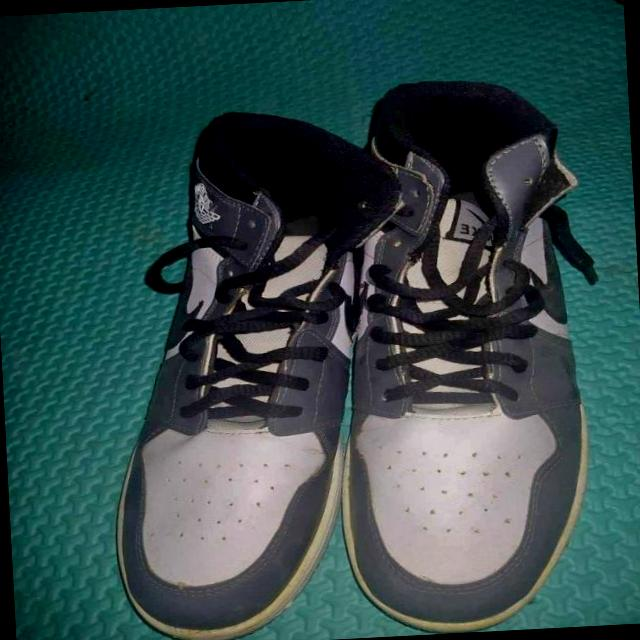nike_fake_jordan: (52, 101, 414, 640), (320, 70, 610, 639)
